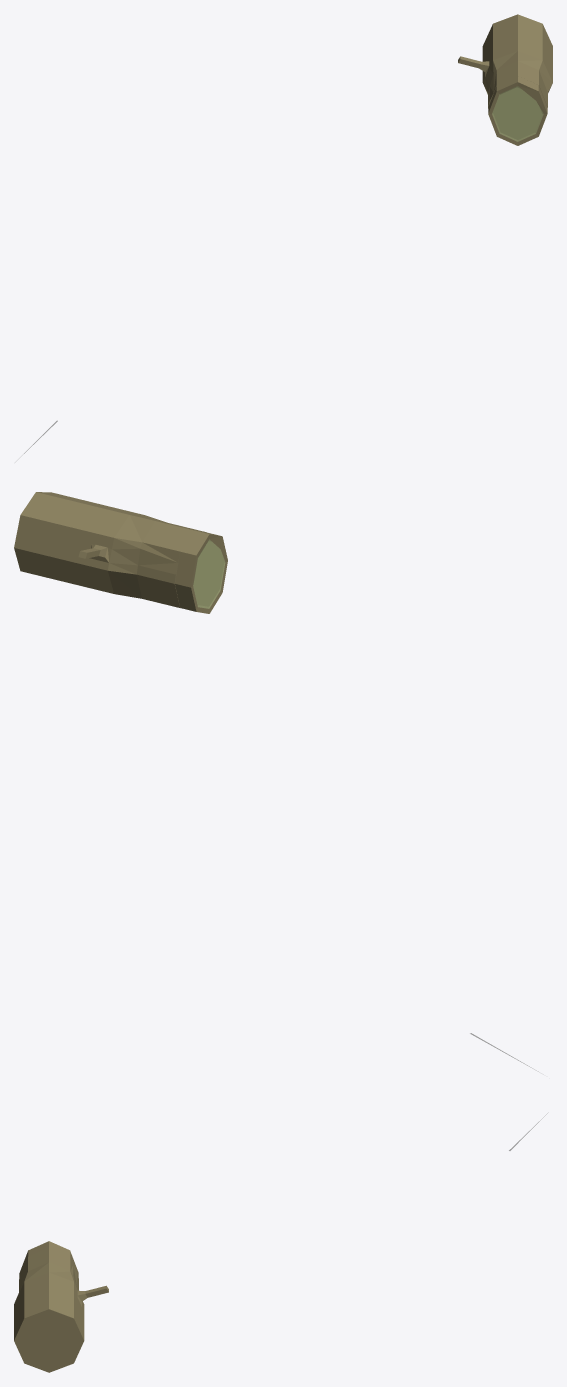
The model's file is Wood log.fbx.
3 renders of one model, top to bottom at view 1: azimuth 90°, elevation 25°; view 2: azimuth 150°, elevation 25°; view 3: azimuth 270°, elevation 25°, orthographic. The views are drawn at different scales.
Visible parts, largest first — view 1: pCylinder1, pCylinder2; view 2: pCylinder1, pCylinder2; view 3: pCylinder1.
Part boxes in pixels (left/top/right/bottom): pCylinder1: left=458, top=14, right=552, bottom=145; pCylinder2: left=493, top=87, right=541, bottom=139; pCylinder1: left=14, top=492, right=227, bottom=613; pCylinder2: left=193, top=541, right=223, bottom=606; pCylinder1: left=14, top=1241, right=108, bottom=1372.
Size of the model in its own units: 12.17 by 2.17 by 8.53.
